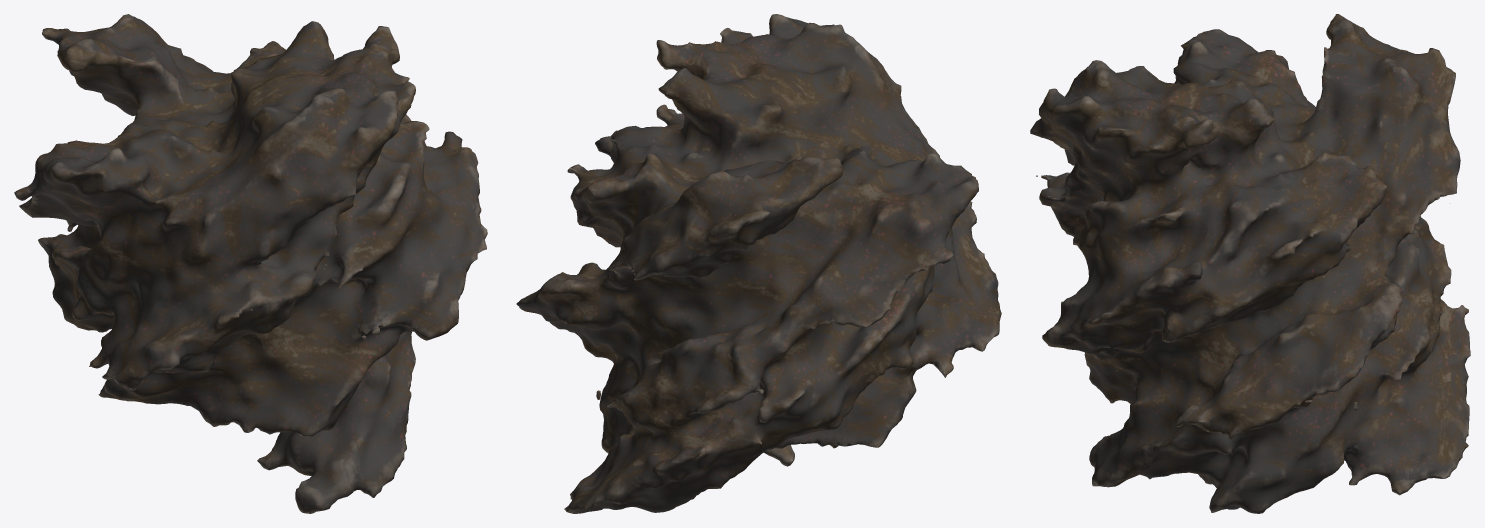
The model's file is asteroid-2.glb.
3 renders of one model, left to right at view 1: azimuth 30°, elevation 25°; view 2: azimuth 150°, elevation 25°; view 3: azimuth 270°, elevation 25°, orthographic. The views are drawn at different scales.
Visible parts, largest first — view 1: Volume_Mesher; view 2: Volume_Mesher; view 3: Volume_Mesher.
Part boxes in pixels (left/top/right/bottom): Volume_Mesher: left=14, top=14, right=487, bottom=513; Volume_Mesher: left=516, top=14, right=1001, bottom=513; Volume_Mesher: left=1030, top=14, right=1470, bottom=513.
Size of the model in its own units: 3.74 by 3.67 by 3.59.
1 material, 1 textured.
